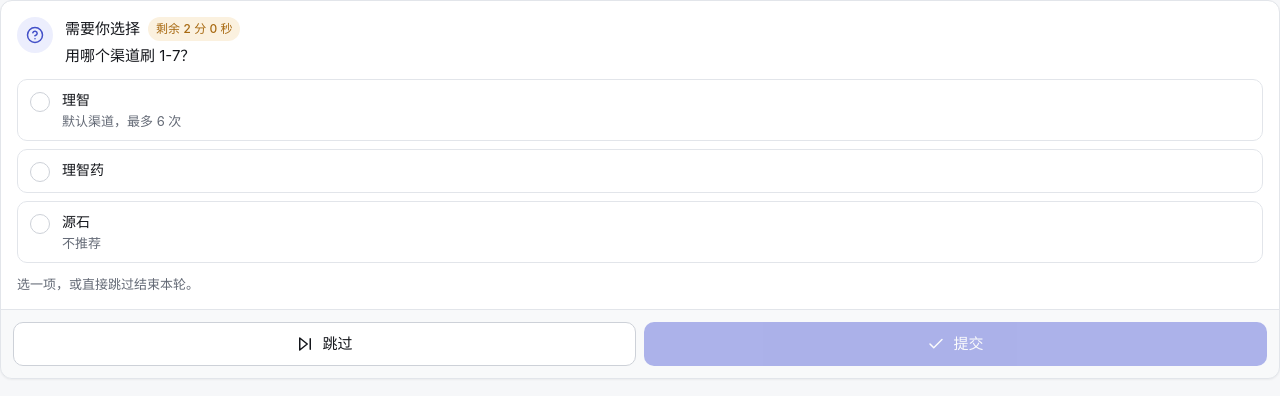
Test: agent question card › asks for exactly one choice, lets the user change it, and submits the picked label (M21)
The image size is (1280, 396).
Expected: the text "用哪个渠道刷 1-7？" is shown, [65,46,195,65]
Expected: the text "默认渠道，最多 6 次" is shown, [62,113,181,129]
What coordinates should you click on to do the following:
click the radio button labelled "理智药"
I would click on:
 (83, 170)
Its box is [17,149,1263,193].
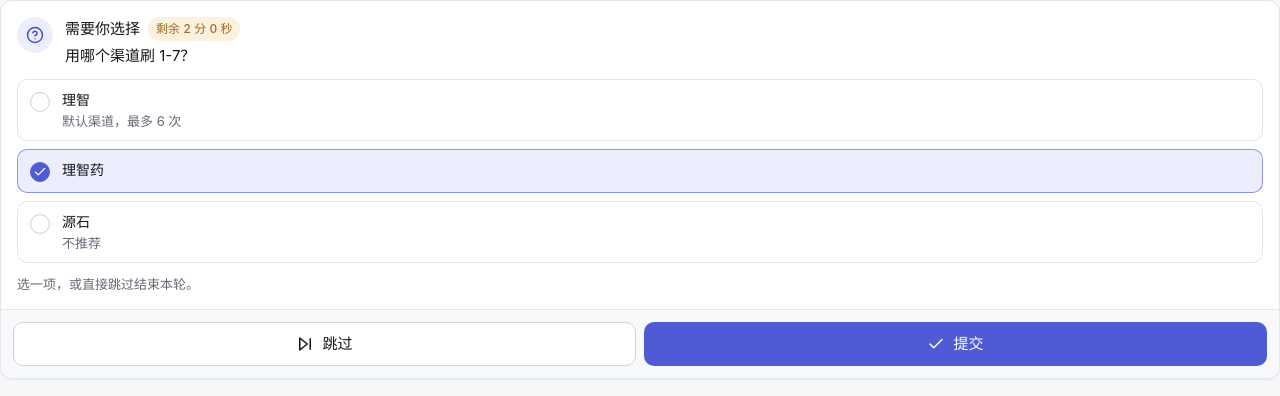
Expected: the radio button labelled "理智药" is checked, [17,149,1263,193]
Expected: the button "提交" is enabled, [644,322,1267,366]
// 单选互斥：换一项之后前一项自动取消。
What coordinates should you click on to do the following:
click the radio button labelled "源石 不推荐"
I would click on:
 (82, 243)
Its box is [17,201,1263,263].
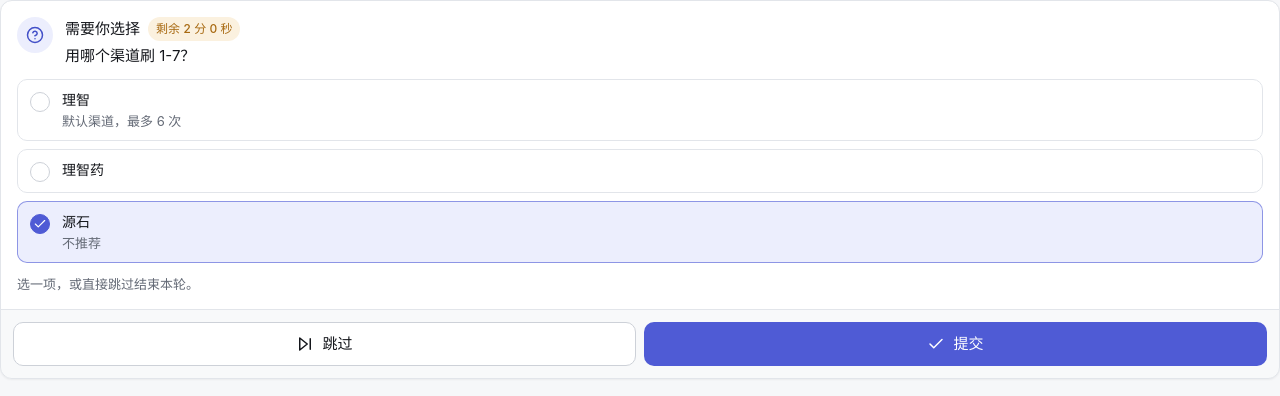
Expected: the radio button labelled "源石 不推荐" is checked
Expected: the radio button labelled "理智药" is not checked, [17,149,1263,193]
// 再点一次自己可以取消（选定之前先允许反悔），于是又不能提交了。
What coordinates should you click on to do the following:
click the radio button labelled "源石 不推荐"
I would click on:
 (82, 243)
Its box is [17,201,1263,263].
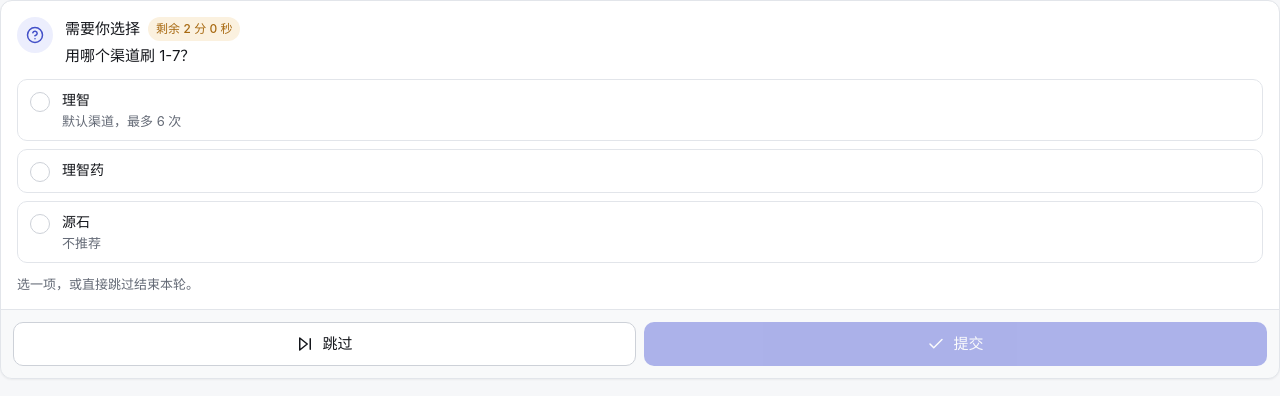
Expected: the radio button labelled "源石 不推荐" is not checked, [17,201,1263,263]
Expected: the button "提交" is disabled, [644,322,1267,366]
What coordinates should you click on to do the following:
click the radio button labelled "理智药"
I would click on:
 (83, 170)
Its box is [17,149,1263,193].
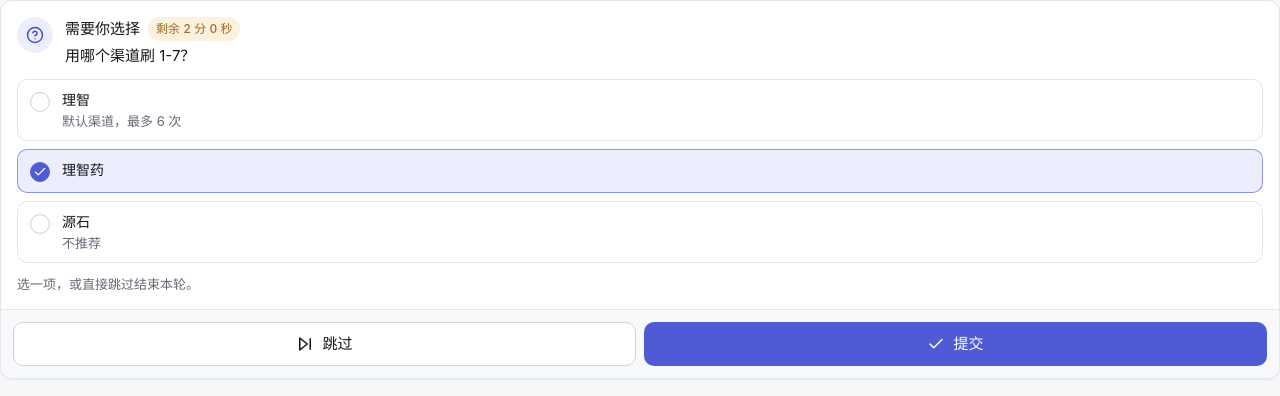
What coordinates should you click on to do the following:
click the button "提交"
I would click on:
 (956, 344)
Its box is [644,322,1267,366].
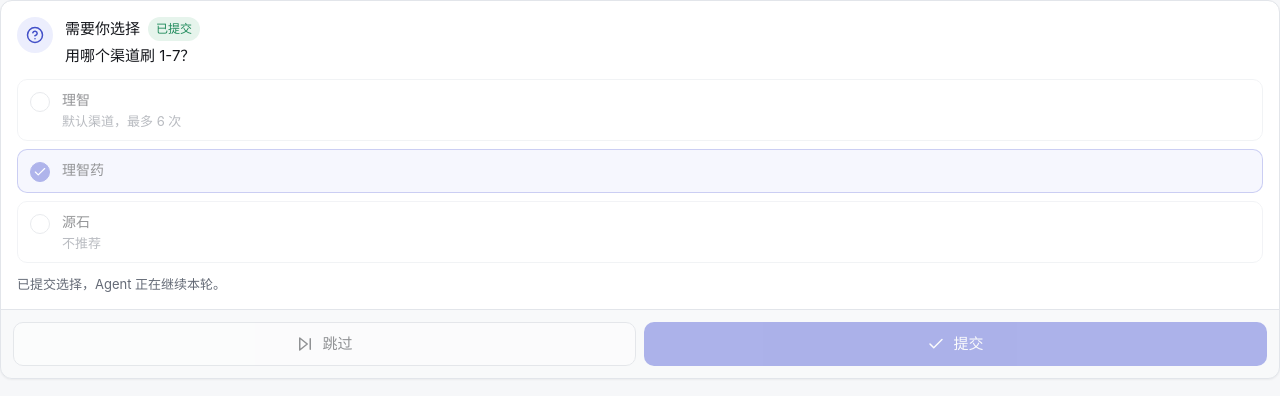
Expected: the text "已提交选择，Agent 正在继续本轮。" is shown, [17,276,226,292]
